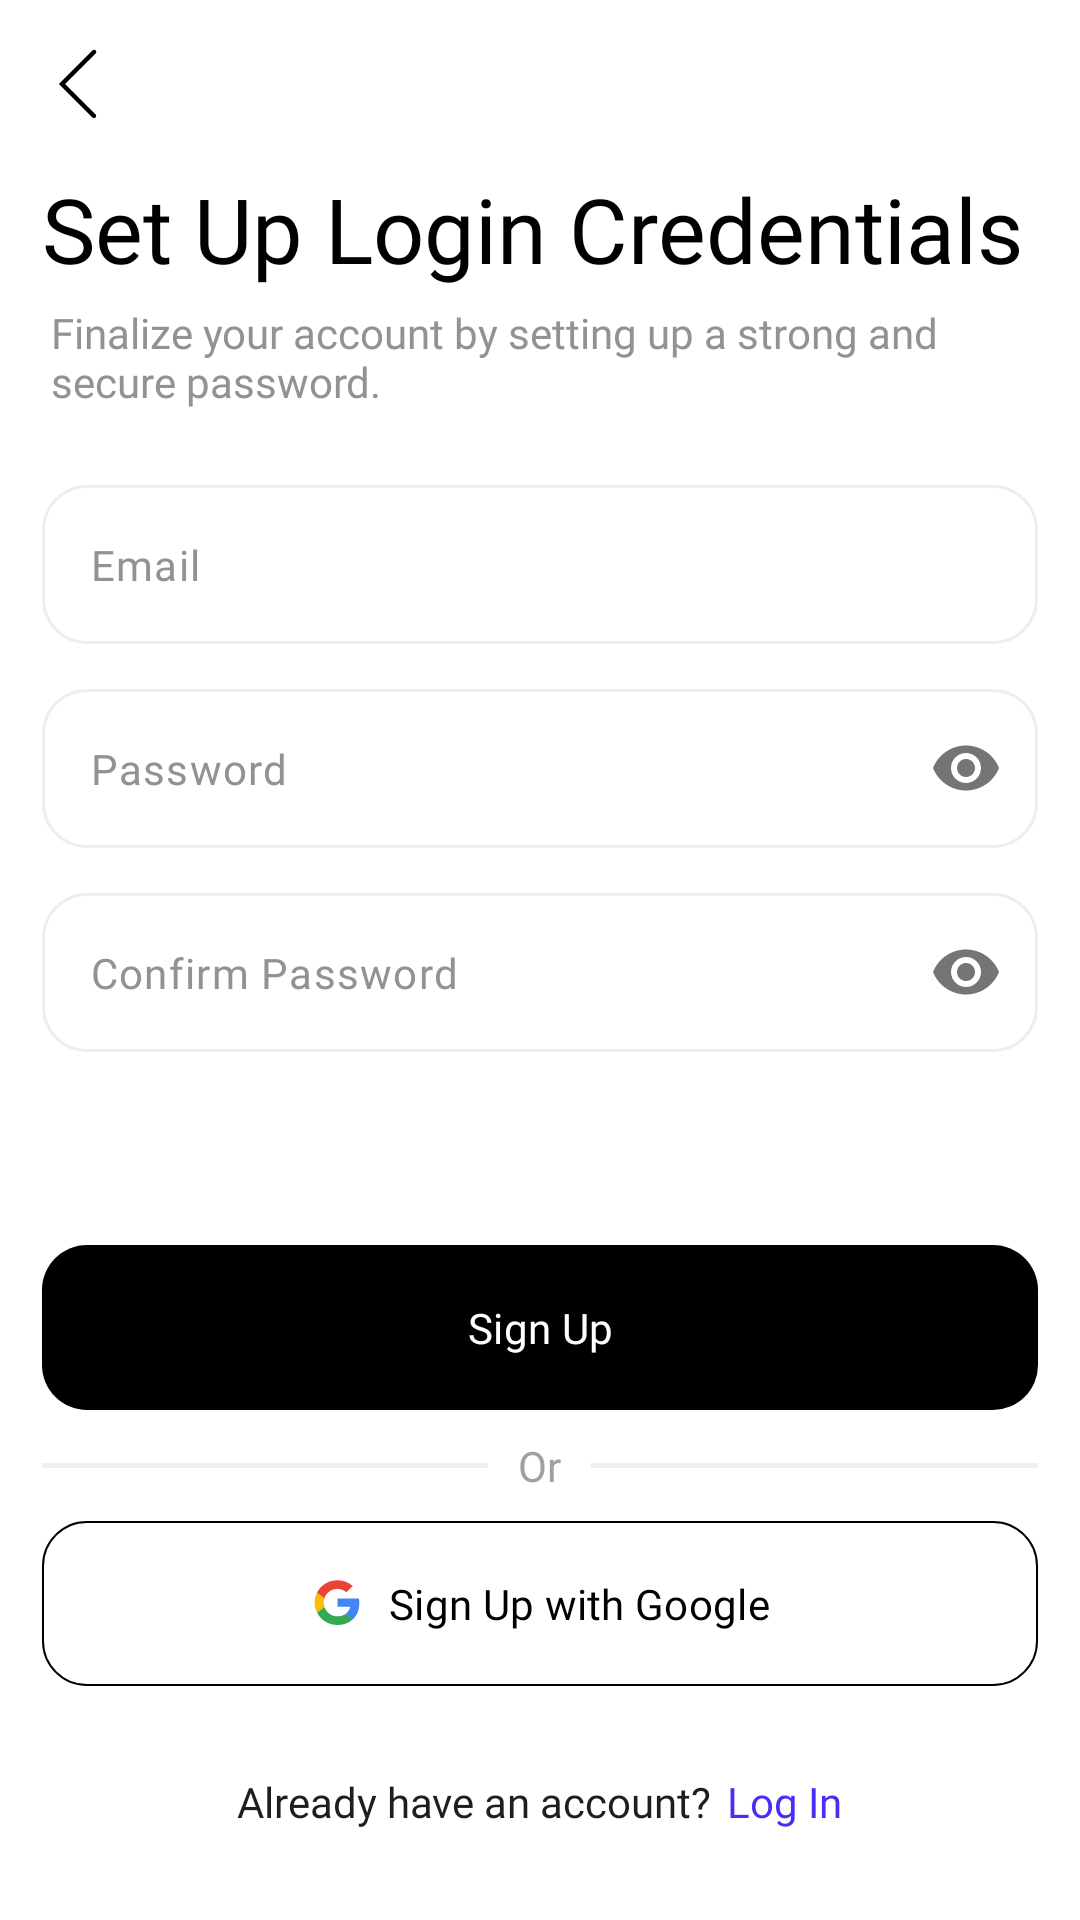

Named icons in this screenshot (1080 × 1920) and their centers, [x,y]:
back: [78,83]
